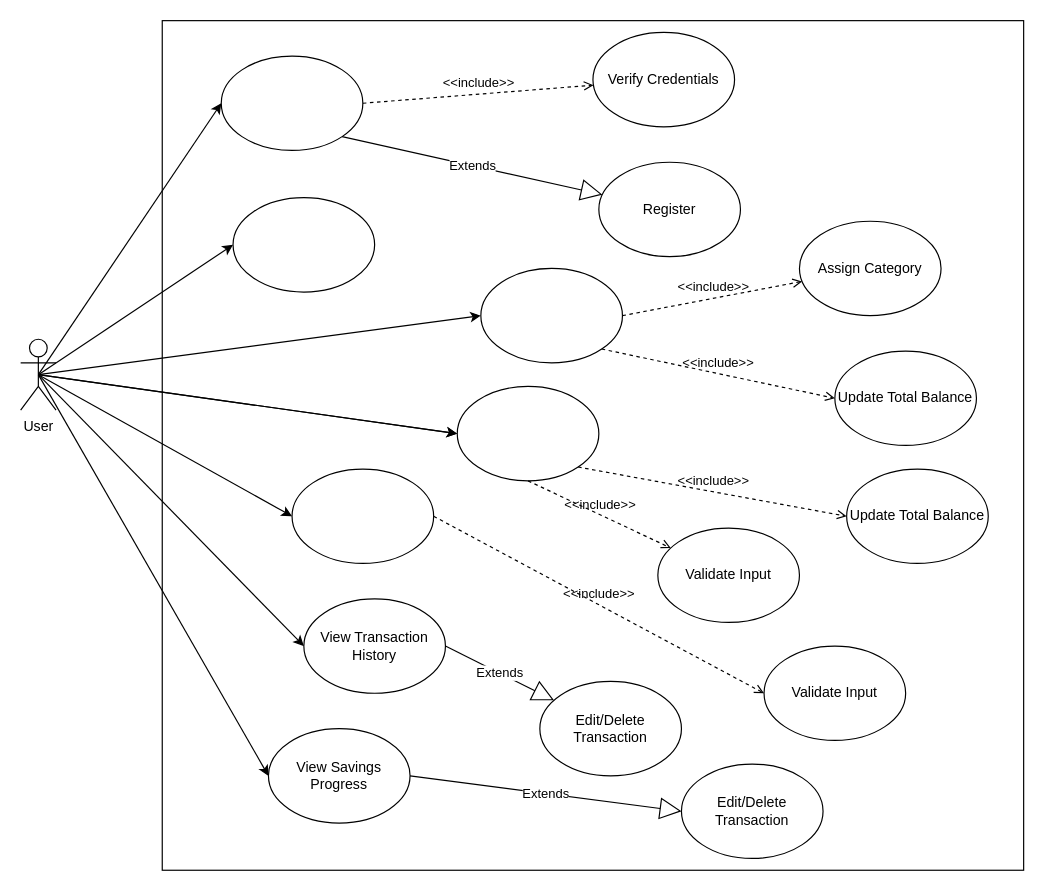
Some shapes in this 1044 by 891 pixel diagram are drawn without their labels. The shapes that lost their labels are listed below. From the top down, each one's centre as x and y in pixels, then its label:
At point 291,102: "Login".
At point 303,244: "View Dashboard".
At point 551,315: "Add Expenses".
At point 527,433: "Add Income".
At point 362,515: "Set Savings Goal".
